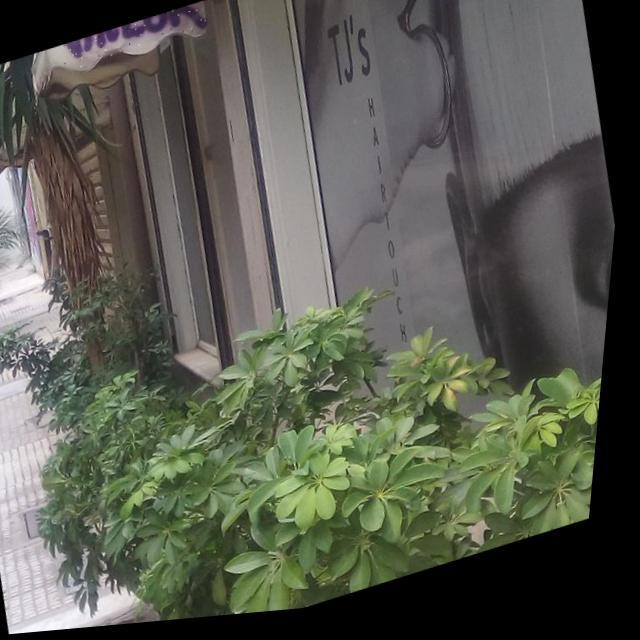-: (51, 2, 216, 76)
